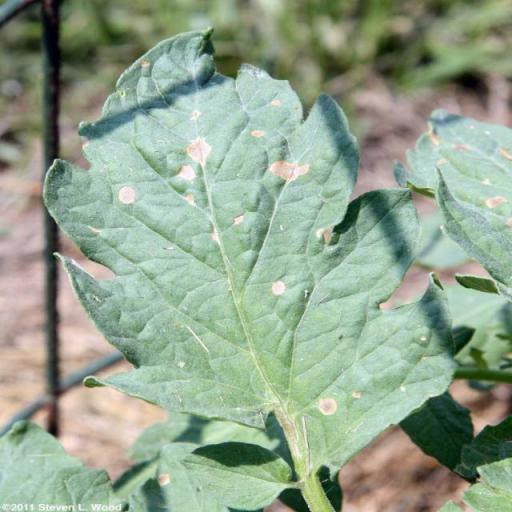disease_tomato: (40, 22, 458, 476)
